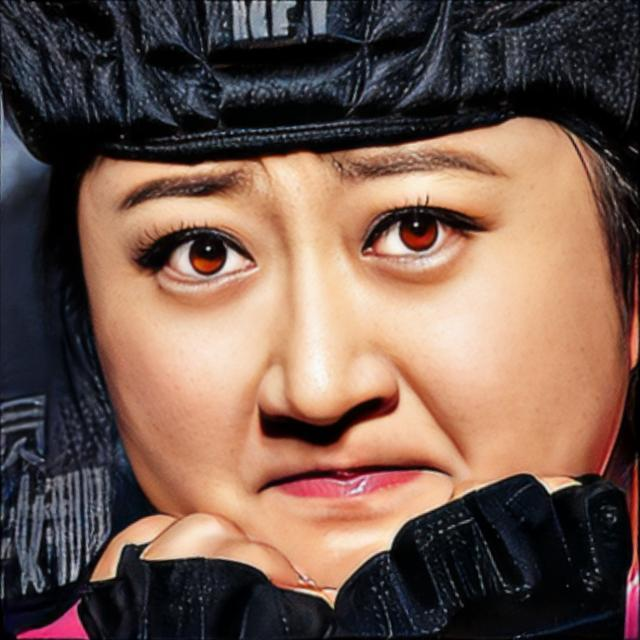disgust: (77, 112, 630, 604)
